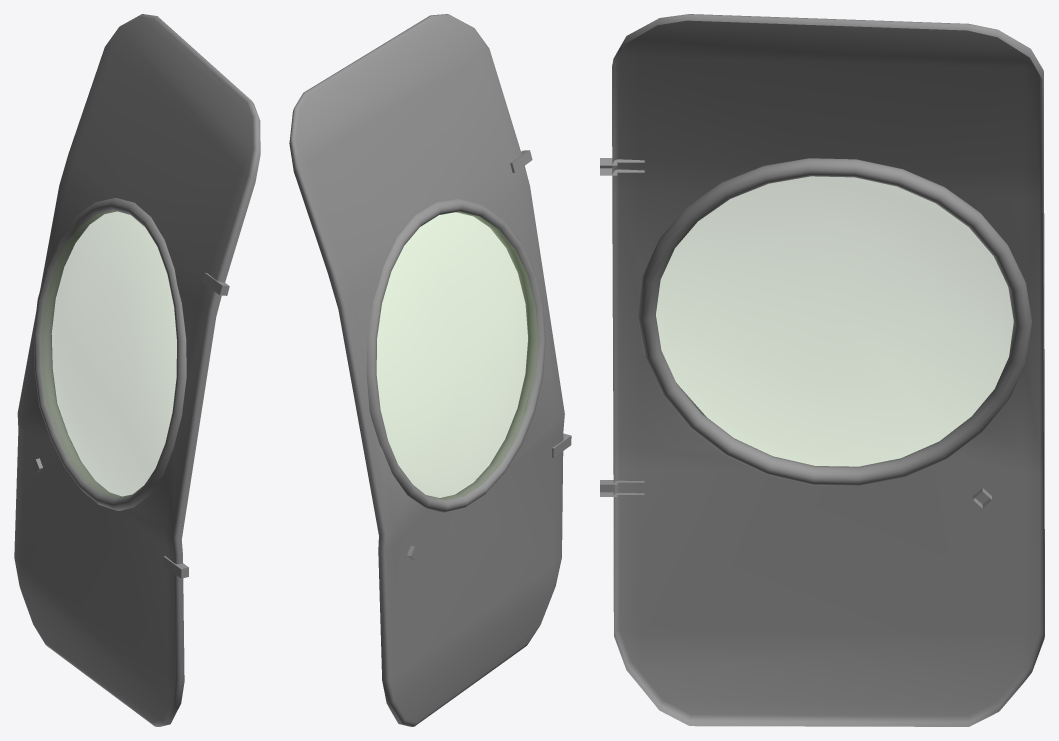
File: AC313_feijimen_04.FBX
The picture shows the model from 3 angles, left to right: view 1: azimuth 30°, elevation 25°; view 2: azimuth 150°, elevation 25°; view 3: azimuth 270°, elevation 25°; orthographic projection. The views are drawn at different scales.
Parts seen in each view (by area): view 1: AC313_feijimen_04; view 2: AC313_feijimen_04; view 3: AC313_feijimen_04.
Boxes of the visible parts, x1,y1,x2,y2 form: AC313_feijimen_04: (14,14,260,726); AC313_feijimen_04: (289,14,571,726); AC313_feijimen_04: (600,14,1044,726).
Size of the model in its own units: 0.2863 by 1.33 by 0.6974.
